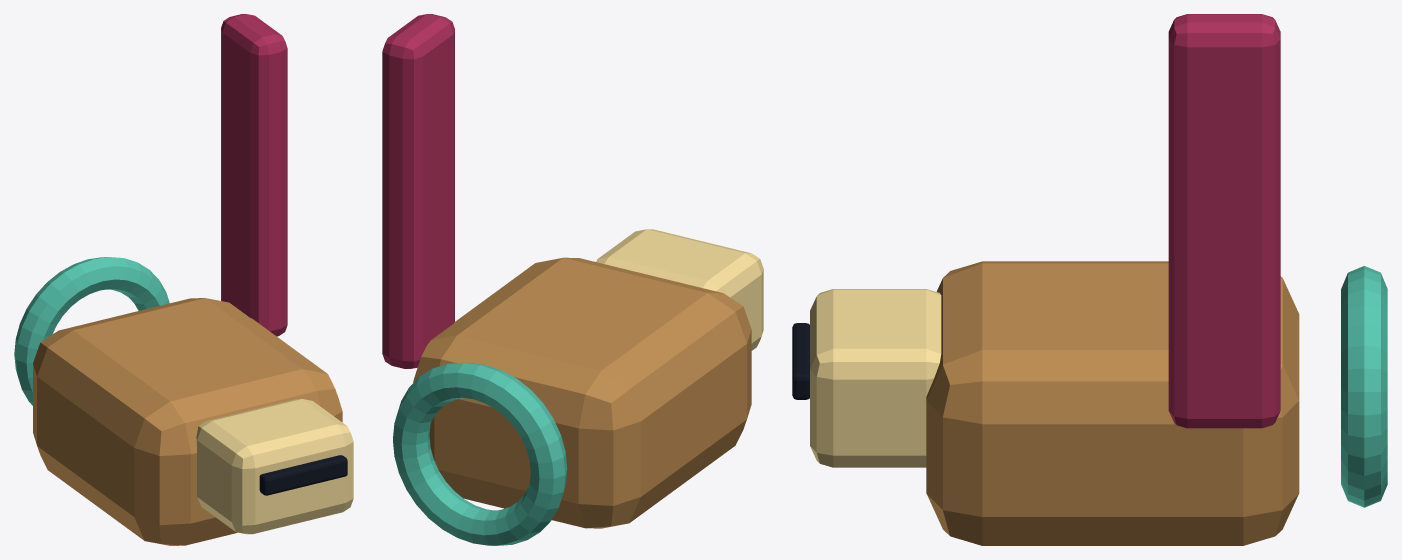
The model's file is Item_rescue_whistle.fbx.
3 renders of one model, left to right at view 1: azimuth 30°, elevation 25°; view 2: azimuth 150°, elevation 25°; view 3: azimuth 270°, elevation 25°, orthographic. The views are drawn at different scales.
Parts seen in each view (by area): view 1: Item_rescue_whistle.Mesh; view 2: Item_rescue_whistle.Mesh; view 3: Item_rescue_whistle.Mesh.
Part boxes in pixels (x1,y1,x2,y2): Item_rescue_whistle.Mesh: (14,14,353,545); Item_rescue_whistle.Mesh: (382,14,763,545); Item_rescue_whistle.Mesh: (792,14,1387,545).
Size of the model in its own units: 38 by 65.5 by 63.9.
